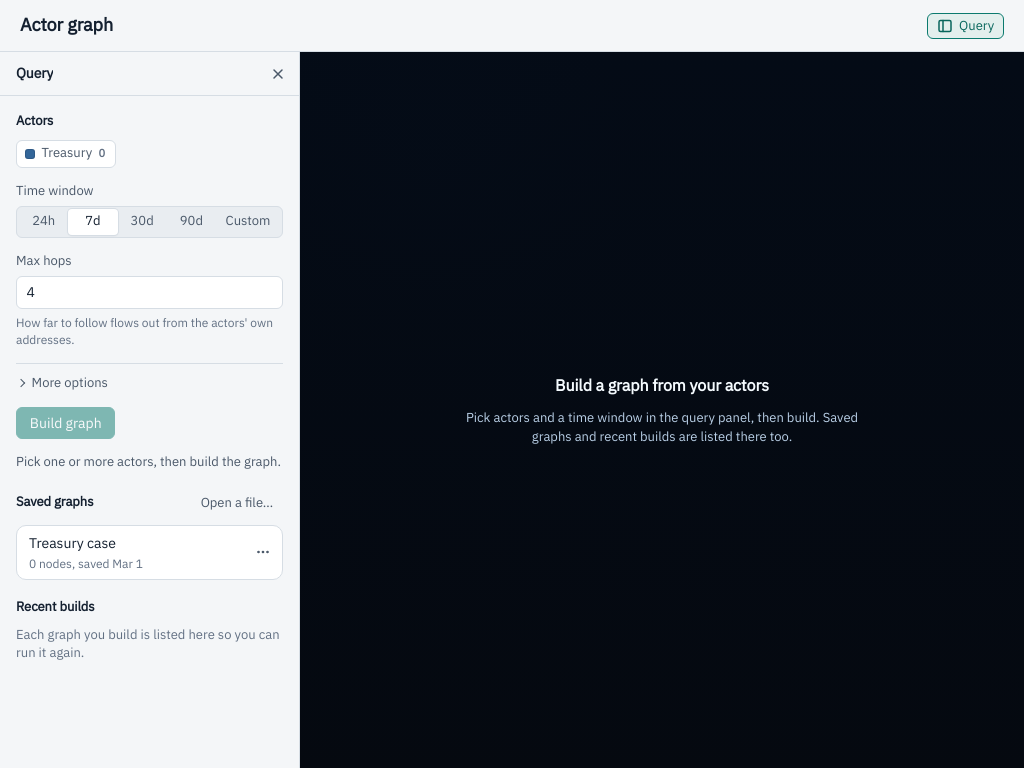
Test case: ActorGraphPage › loads a saved graph state from the server list
Click the button titled "Open Treasury case exactly as it was saved".
click(135, 552)  # box [29, 533, 241, 572]
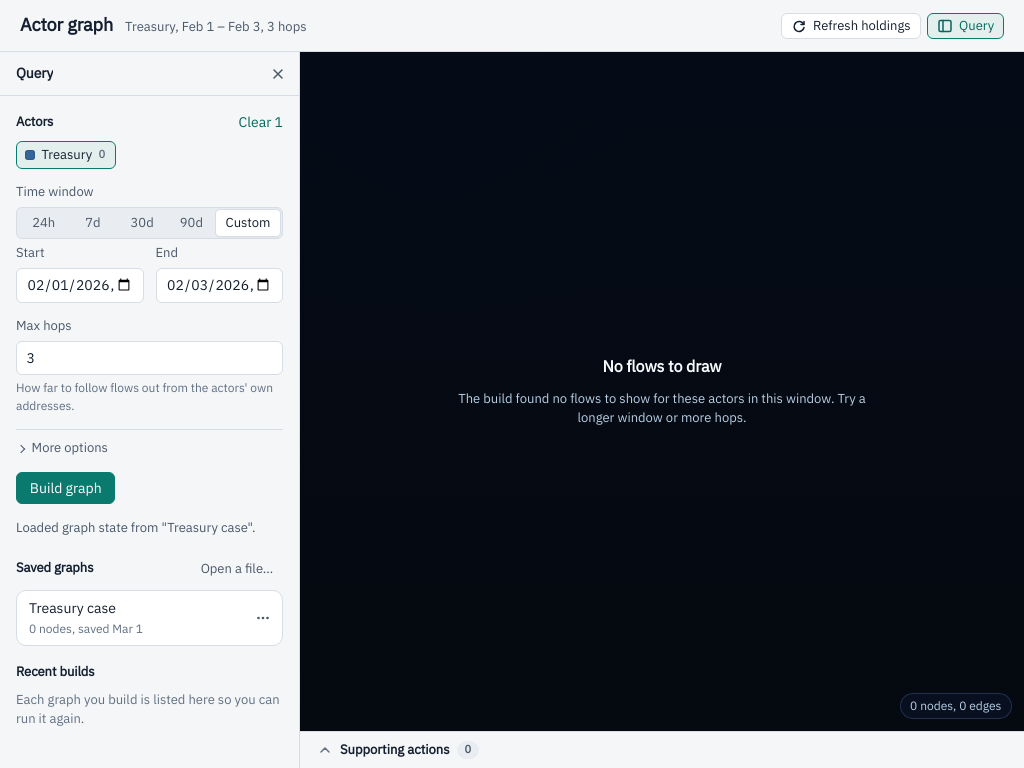
expect the element named "Min USD (at time)" holds "25": met, box [16, 428, 283, 458]
expect the text "Loaded graph state from \"Treasury case\"." is shown: met, box [16, 519, 283, 538]
expect the heading "No flows to draw" is shown: met, box [602, 355, 722, 378]
